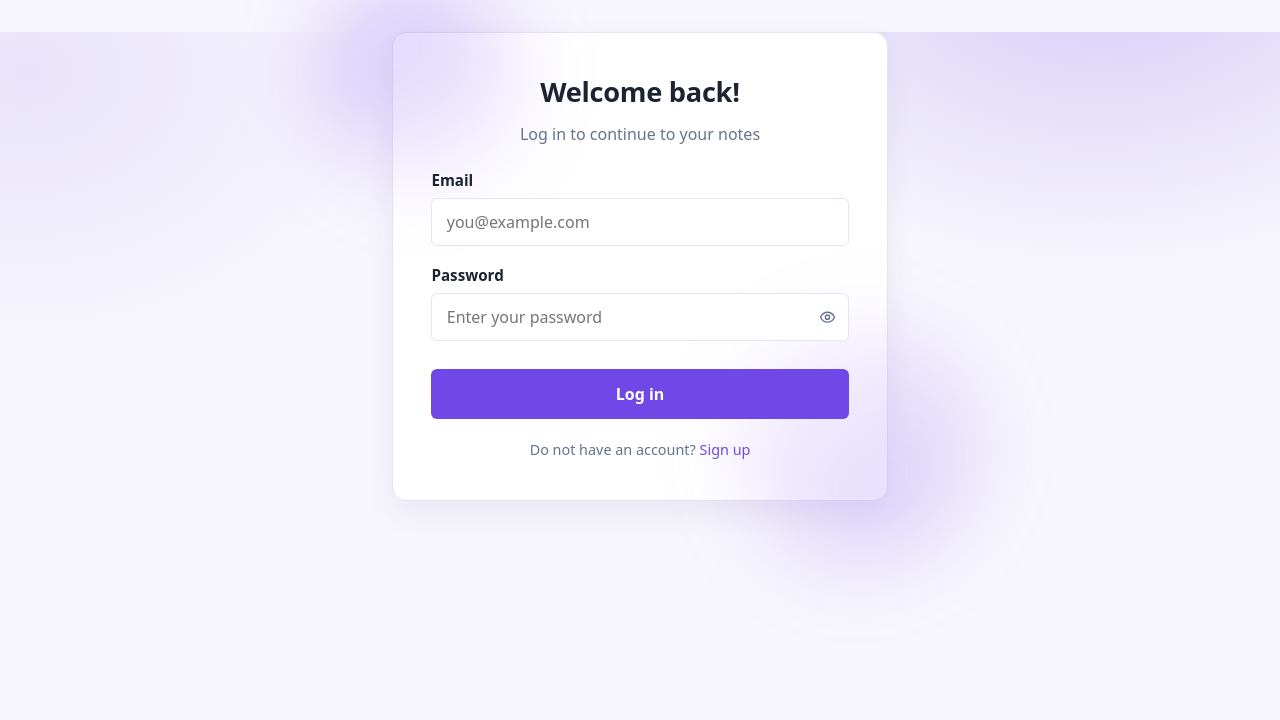
Test case: LoginPage › when the credentials are wrong › shows the message the server sent
Type "aiman@example.com" into the field with placeholder "you@example.com". click: (640, 222)
box: [431, 198, 849, 246]
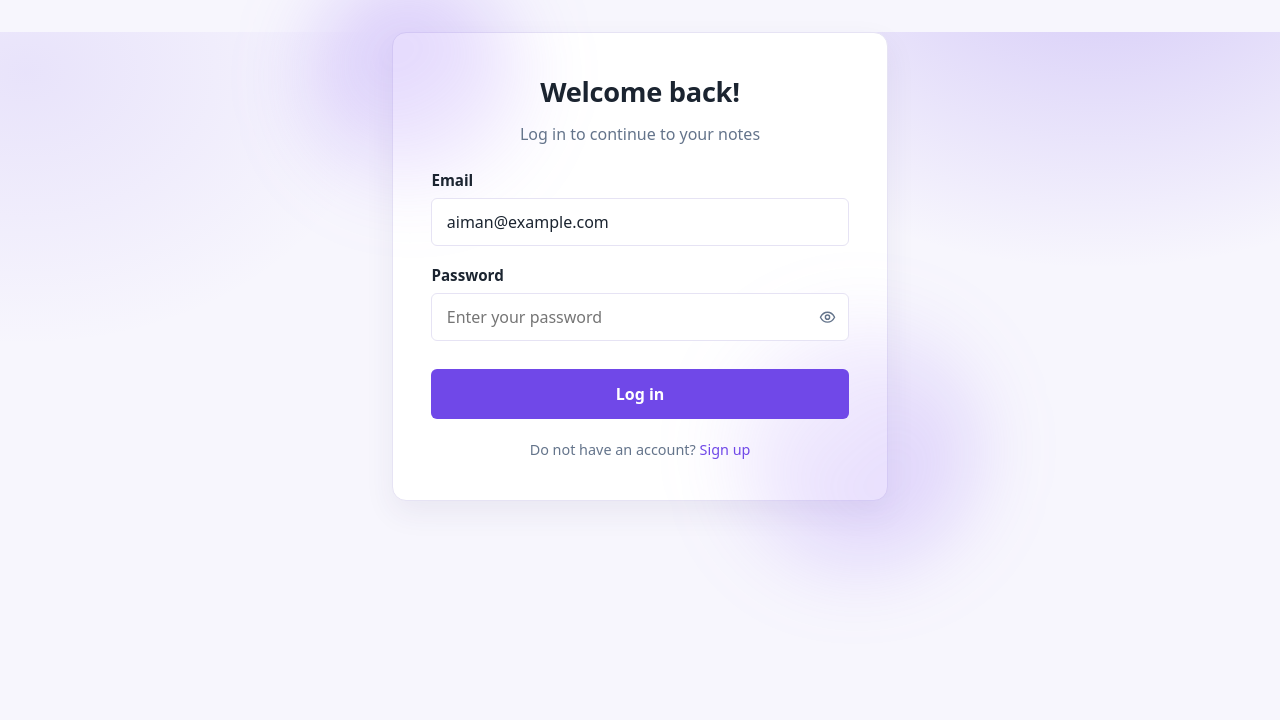
Type "GoodPass1" into the password field with placeholder "Enter your password". click: (640, 317)
box: [431, 293, 849, 341]
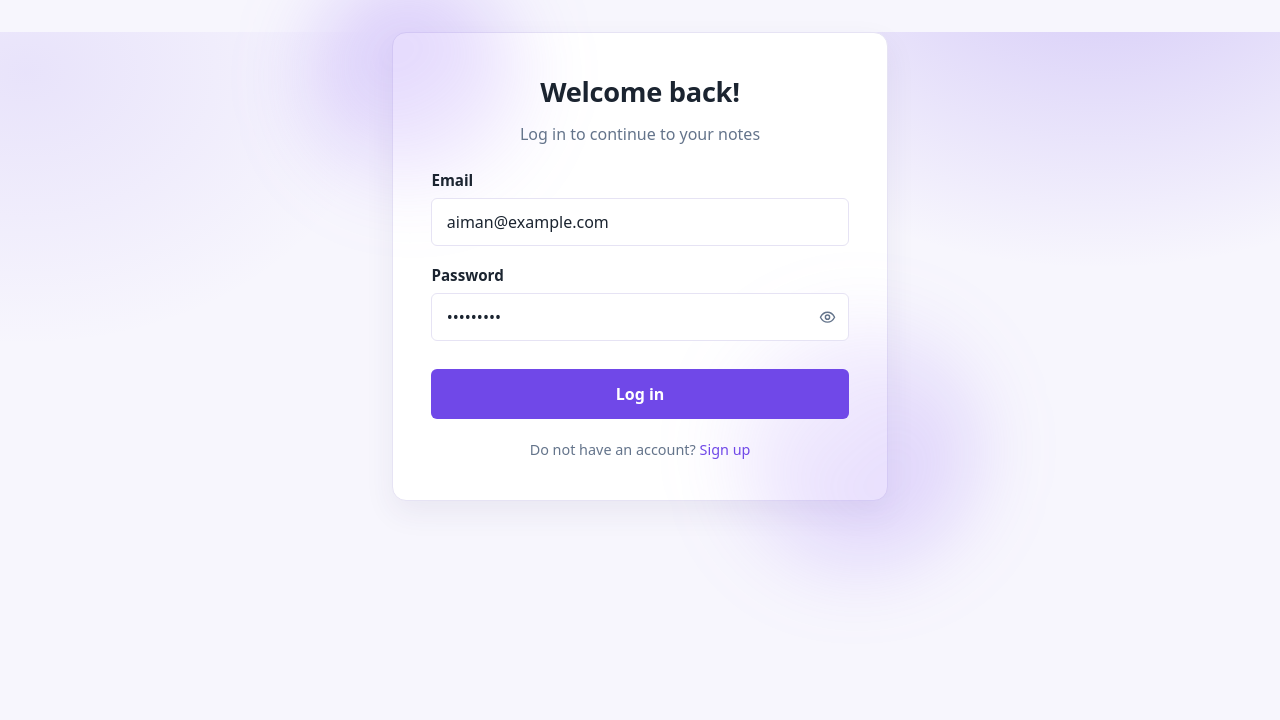
Click the button "Log in". click: (640, 394)
box: [431, 369, 849, 419]
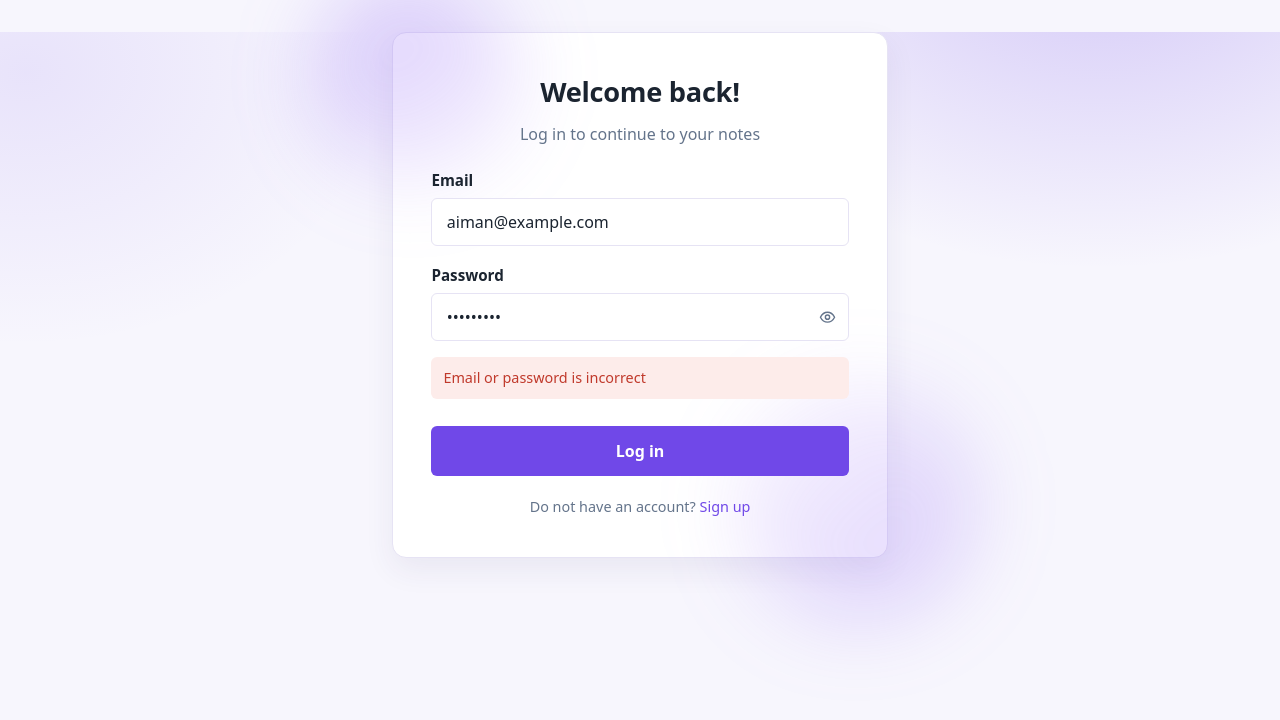
Now the text "Email or password is incorrect" is shown, box [431, 357, 849, 399]
